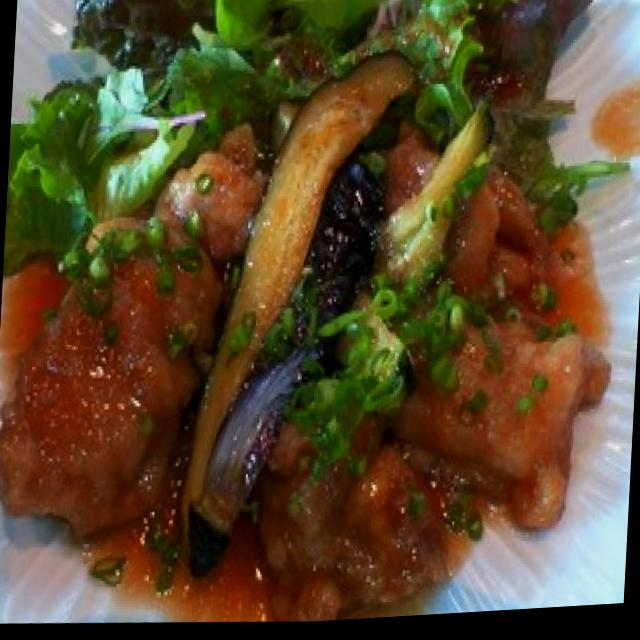鸡肉料理 含炸鸡: (0, 68, 633, 640)
